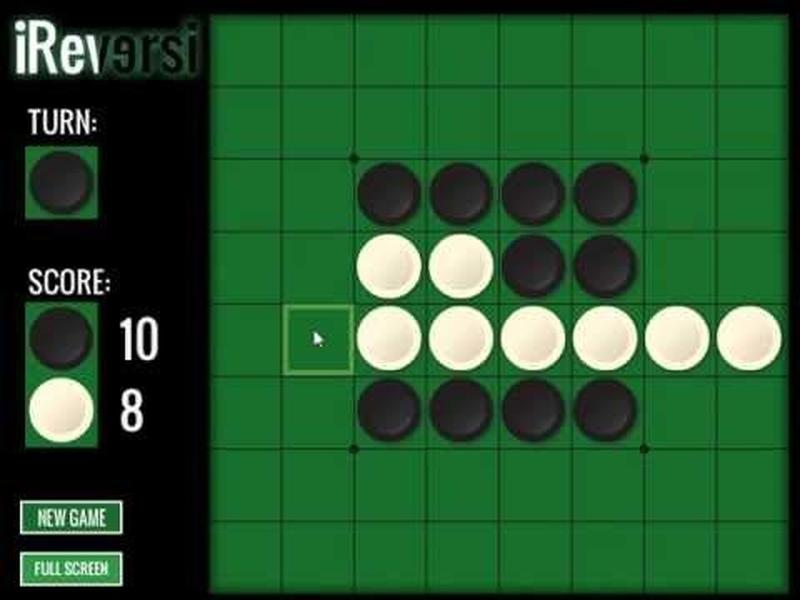black: (571, 372, 649, 451), (491, 228, 572, 301), (499, 372, 575, 449), (571, 229, 647, 304), (426, 370, 497, 448), (352, 373, 428, 444), (498, 158, 571, 228), (573, 158, 641, 232), (427, 158, 496, 228), (356, 161, 423, 223)
white: (419, 297, 499, 371), (571, 303, 643, 379), (349, 307, 430, 373), (426, 229, 496, 301), (646, 303, 714, 375), (352, 234, 427, 299), (498, 301, 568, 367)
